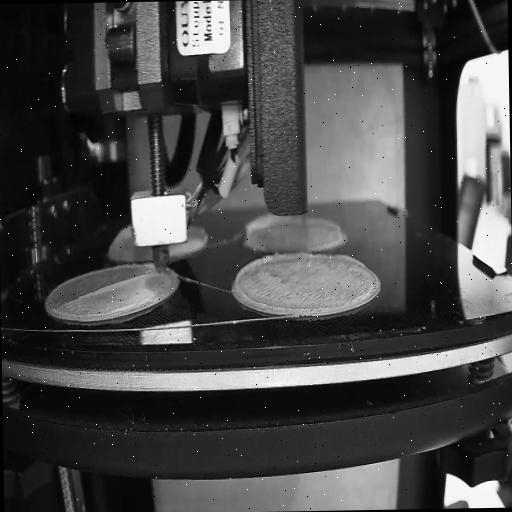over_extrusion: (234, 251, 314, 315), (73, 269, 155, 304), (244, 213, 276, 242), (306, 216, 342, 234), (330, 253, 366, 270)
